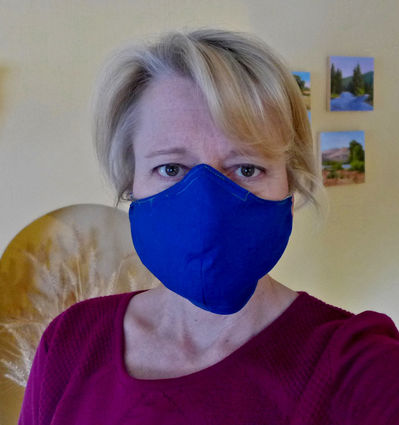with_mask: (100, 55, 327, 328)
